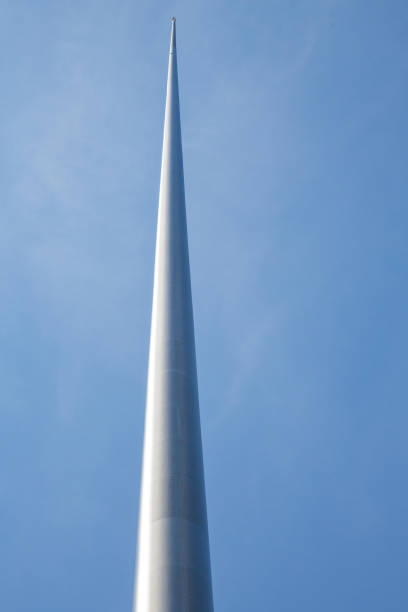light_pole: (130, 17, 214, 612)
